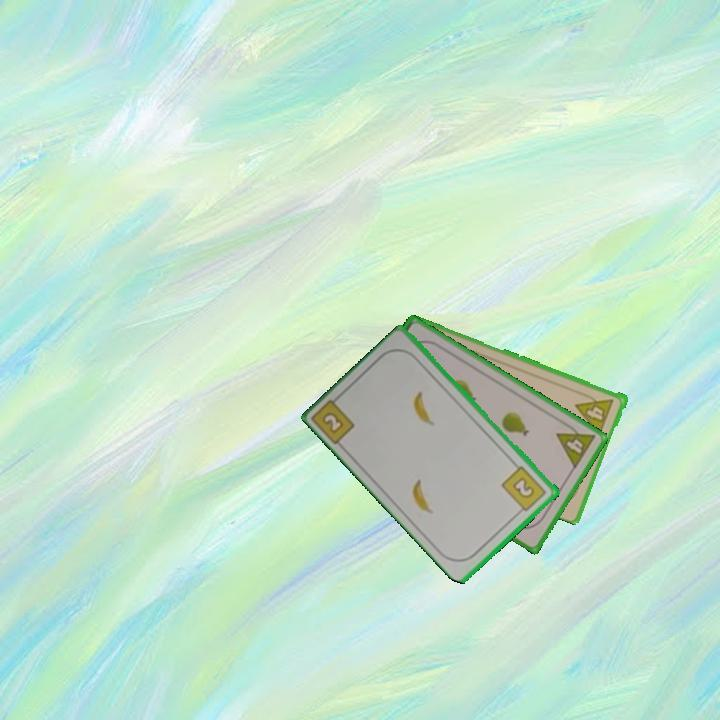2b: (498, 462, 549, 517), (318, 408, 347, 436)
4p: (553, 418, 599, 472), (573, 388, 617, 437)
